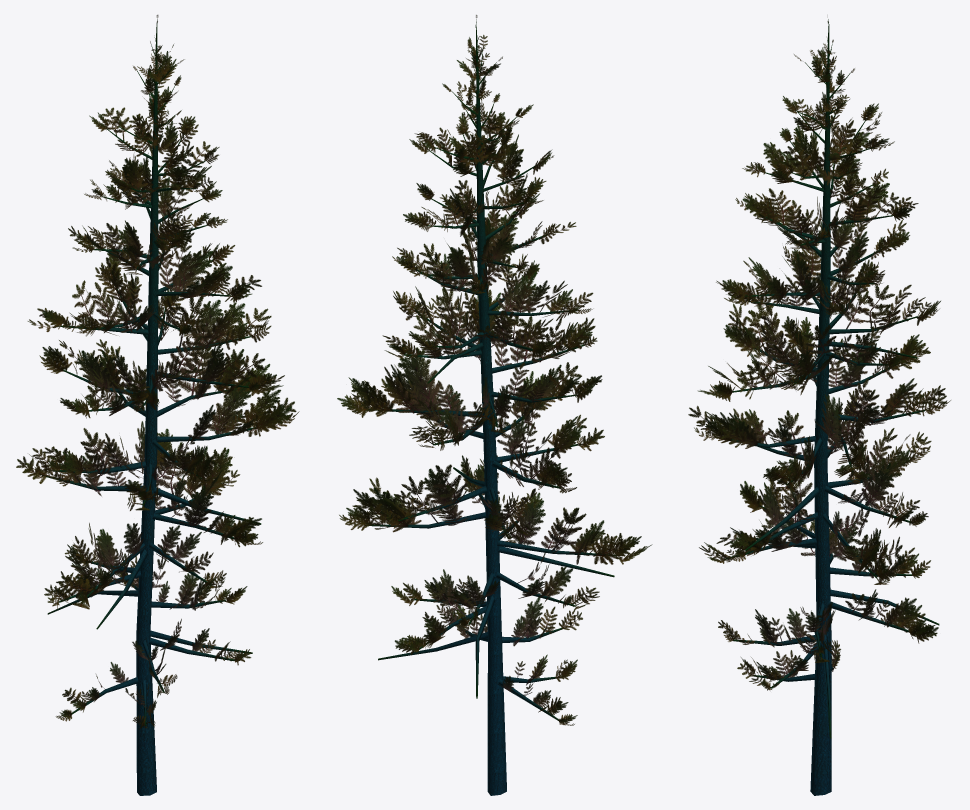
Rendered from Douglas_Fir_E.glb.
3 views of the same model, side by side, from view 1: azimuth 30°, elevation 25°; view 2: azimuth 150°, elevation 25°; view 3: azimuth 270°, elevation 25° (orthographic).
Parts seen in each view (by area): view 1: E_LOD0; view 2: E_LOD0; view 3: E_LOD0.
Boxes of the visible parts, x1,y1,x2,y2 form: E_LOD0: (16,15,299,795); E_LOD0: (337,15,652,795); E_LOD0: (688,19,950,795).
Size of what is drawn, in the model's own units: 2.34 by 6.65 by 2.09.
Materials: 2 (2 with a texture image).
